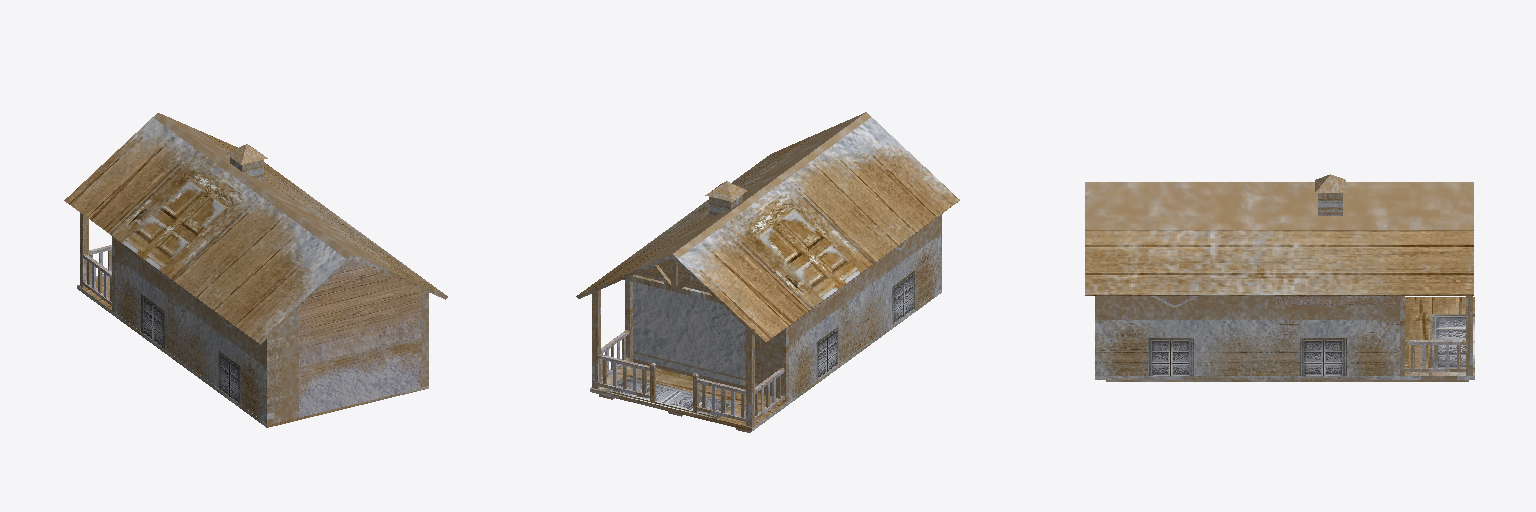
3 views of the same model, side by side, from view 1: azimuth 30°, elevation 25°; view 2: azimuth 150°, elevation 25°; view 3: azimuth 270°, elevation 25° (orthographic).
Visible parts, largest first — view 1: Cottage_House; view 2: Cottage_House; view 3: Cottage_House.
Part boxes in pixels (bbox=[...]): Cottage_House: bbox=[64, 113, 447, 427]; Cottage_House: bbox=[576, 112, 959, 432]; Cottage_House: bbox=[1085, 174, 1474, 381].
Bounding box in the file's own units: 65.76 × 59.31 × 117.
1 materials, 1 textured.